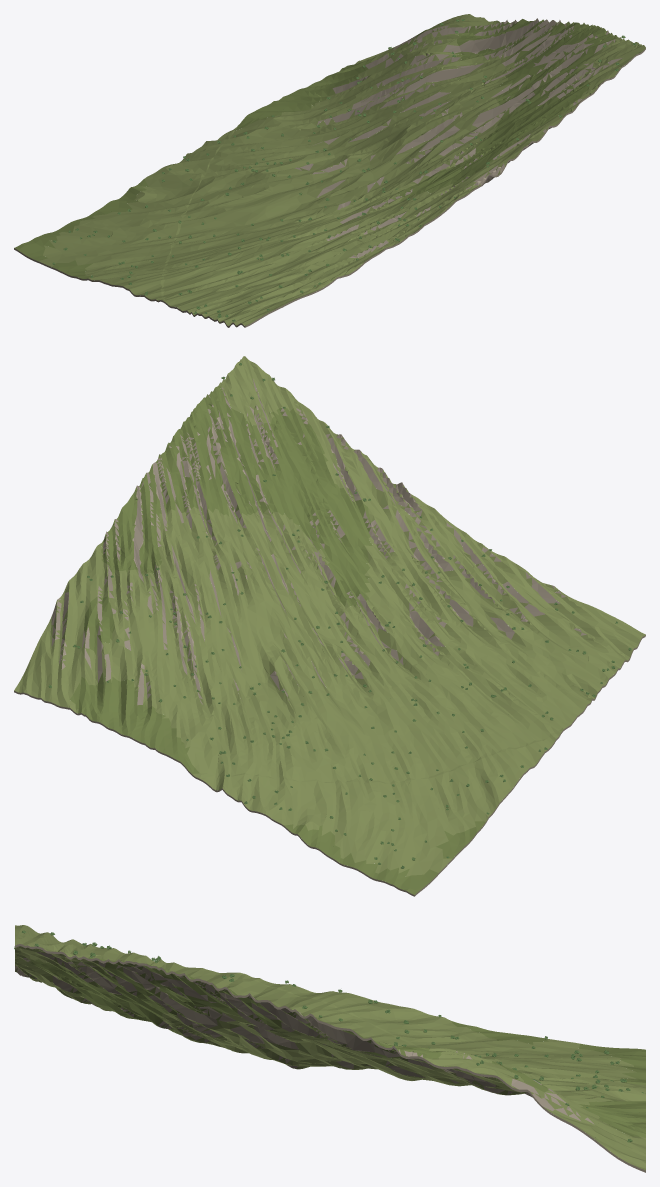
File: parca_+5_-5-yakin.glb
3 renders of one model, top to bottom at view 1: azimuth 30°, elevation 25°; view 2: azimuth 150°, elevation 25°; view 3: azimuth 270°, elevation 25°, orthographic. The views are drawn at different scales.
Visible parts, largest first — view 1: parca_+5_-5_arazi, parca_+5_-5_bitkiler; view 2: parca_+5_-5_arazi, parca_+5_-5_bitkiler; view 3: parca_+5_-5_arazi, parca_+5_-5_bitkiler.
Boxes of the visible parts, x1,y1,x2,y2 form: parca_+5_-5_arazi: (14, 14, 645, 327); parca_+5_-5_bitkiler: (52, 19, 636, 321); parca_+5_-5_arazi: (14, 356, 645, 896); parca_+5_-5_bitkiler: (48, 363, 631, 868); parca_+5_-5_arazi: (15, 925, 645, 1172); parca_+5_-5_bitkiler: (14, 930, 645, 1142).
Bounding box in the file's own units: 1007 × 655 × 1002.
